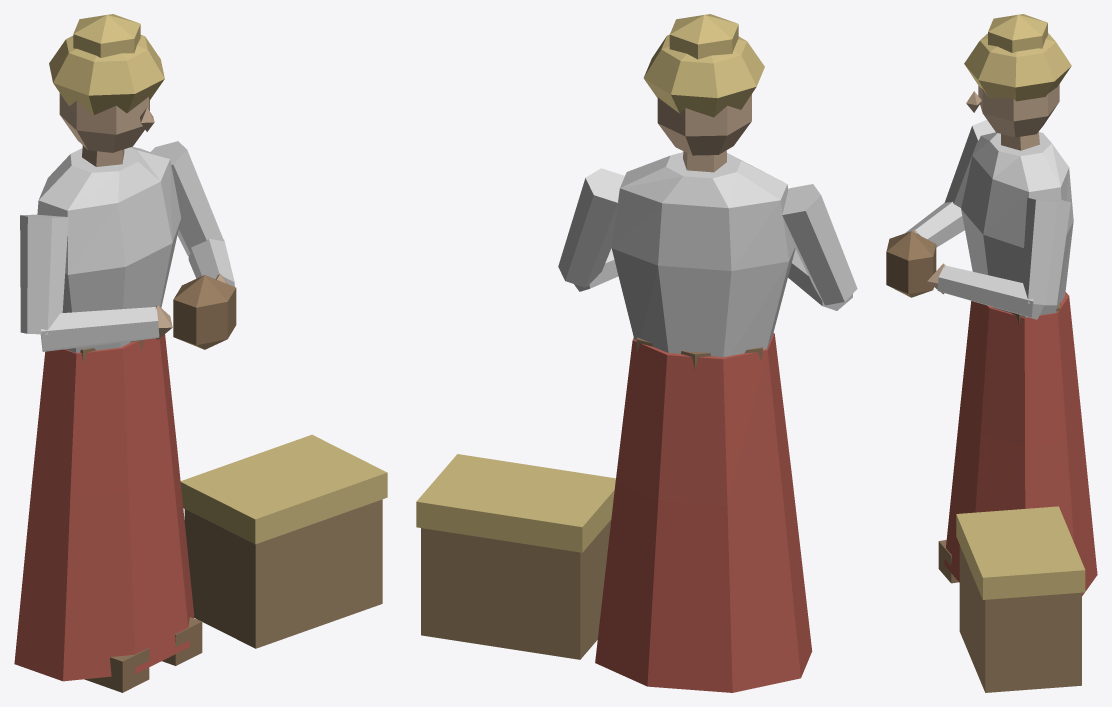
Rendered from merchant.glb.
3 views of the same model, side by side, from view 1: azimuth 30°, elevation 25°; view 2: azimuth 150°, elevation 25°; view 3: azimuth 270°, elevation 25° (orthographic). The views are drawn at different scales.
Visible parts, largest first — view 1: LOD0; view 2: LOD0; view 3: LOD0.
Boxes of the visible parts, bbox=[...] form: LOD0: bbox=[14, 14, 387, 692]; LOD0: bbox=[416, 14, 857, 692]; LOD0: bbox=[886, 14, 1097, 692].
Size of what is drawn, in the model's own units: 0.628 by 1.02 by 0.3444.
